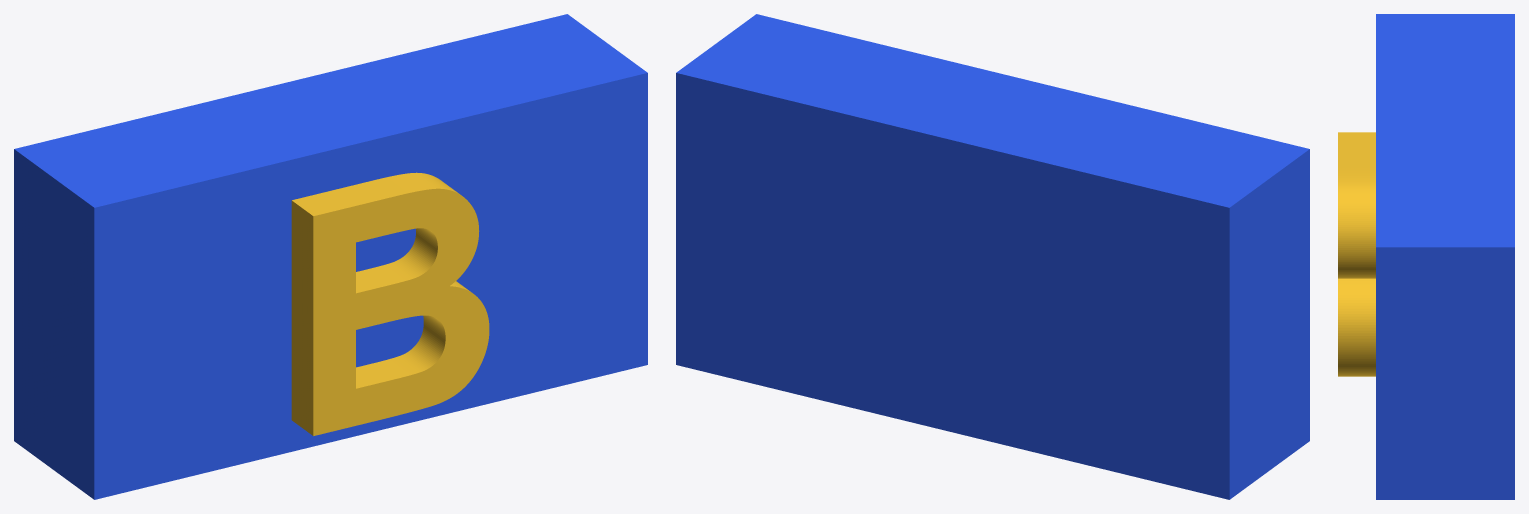
The picture shows the model from 3 angles, left to right: view 1: azimuth 30°, elevation 25°; view 2: azimuth 150°, elevation 25°; view 3: azimuth 270°, elevation 25°; orthographic projection. The views are drawn at different scales.
Visible parts, largest first — view 1: Cube.001, Text.004; view 2: Cube.001; view 3: Cube.001, Text.004.
Boxes of the visible parts, box(x1,y1,x2,y2) form: Cube.001: box(14, 14, 647, 499); Text.004: box(291, 172, 489, 435); Cube.001: box(676, 14, 1309, 499); Cube.001: box(1376, 14, 1514, 499); Text.004: box(1338, 132, 1375, 376).
Bounding box in the file's own units: 1.32 × 0.6639 × 0.421.
